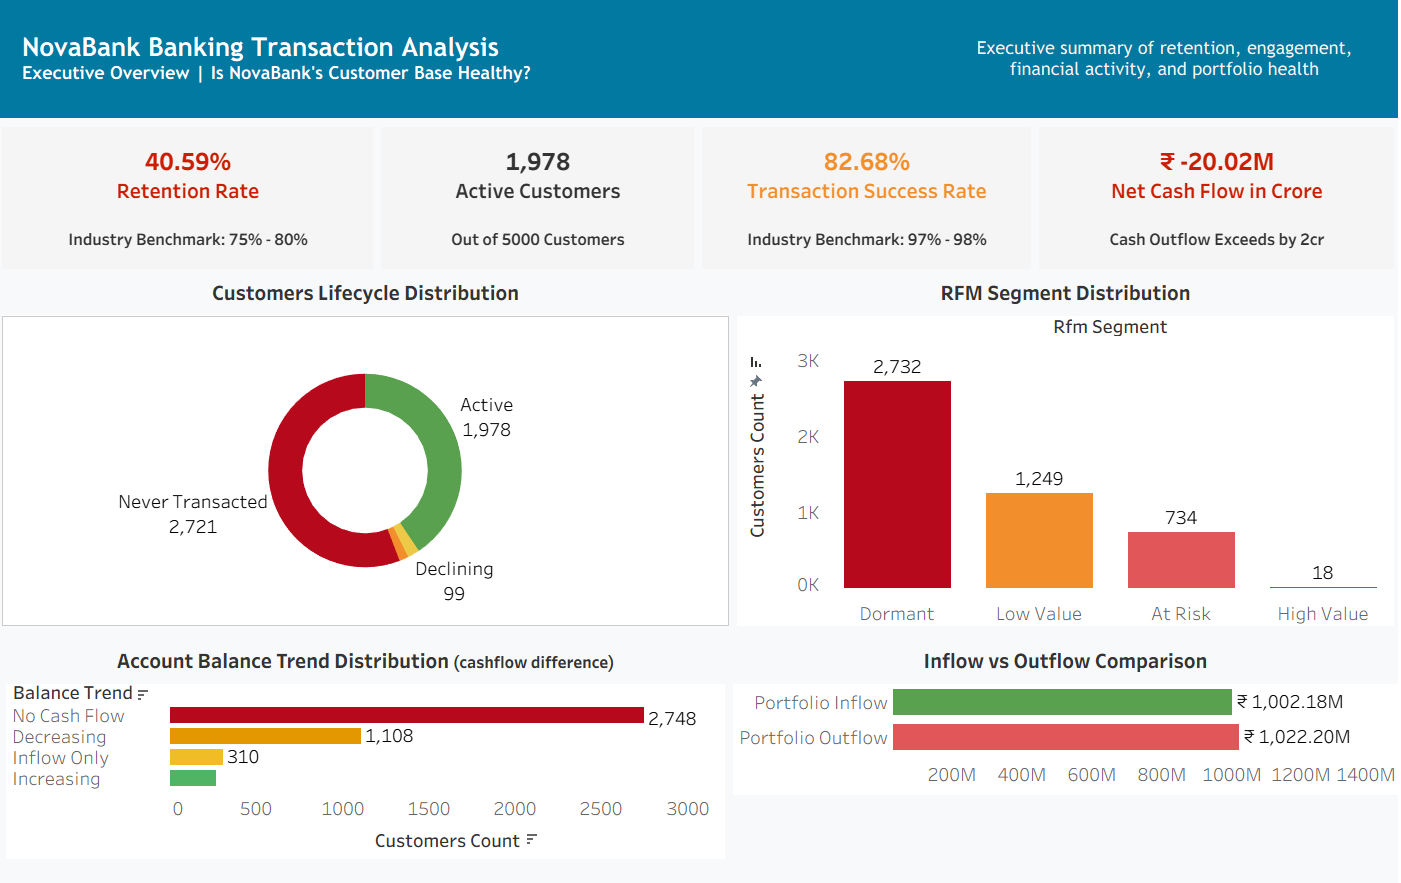

The dashboard page shown, as its layout file describes it:
{"tool":"tableau","page":{"name":"Dashboard 1: Executive Dashboard","canvas":[1400,900],"ordinal":0},"visuals":[{"type":"legend","title":"Customers Lifecycle Distribution","param":"[federated.0pmkvvu0vxlzjg1121hlv11tvan9].[none:Calculation_0224854119067650:nk]","box":[687,0,189,900]},{"type":"legend","title":"RFM Segment Distribution","param":"[federated.0pmkvvu0vxlzjg1121hlv11tvan9].[none:rfm_segment:nk]","box":[876,0,168,900]},{"type":"legend","title":"Account Balance Trend Distribution","param":"[federated.0pmkvvu0vxlzjg1121hlv11tvan9].[none:balance_trend:nk]","box":[1044,0,168,900]},{"type":"legend","title":"Inflow vs Outflow Comparison","param":"[federated.0pmkvvu0vxlzjg1121hlv11tvan9].[:Measure Names]","box":[1212,0,188,900]},{"type":"text","box":[16,16,933,93]},{"type":"text","box":[949,16,435,93]},{"type":"worksheet","title":"KPI - Retention Rate","mark":"Automatic","box":[0,125,379,150]},{"type":"worksheet","title":"KPI - Active Customers","mark":"Automatic","box":[379,125,321,150]},{"type":"worksheet","title":"KPI - Transaction Success Rate","mark":"Automatic","box":[700,125,337,150]},{"type":"worksheet","title":"KPI 4 — Net Cash Flow","mark":"Automatic","box":[1037,125,363,150]},{"type":"worksheet","title":"Customers Lifecycle Distribution","mark":"Pie","rows":["Calculation_0224854108131328","Calculation_0224854108131328"],"box":[0,272,735,360]},{"type":"worksheet","title":"RFM Segment Distribution","mark":"Automatic","rows":["customer_id"],"cols":["rfm_segment"],"box":[735,272,665,360]},{"type":"worksheet","title":"Account Balance Trend Distribution","mark":"Automatic","rows":["balance_trend"],"cols":["customer_id"],"box":[4,640,727,250]},{"type":"worksheet","title":"Inflow vs Outflow Comparison","mark":"Automatic","box":[731,640,673,250]}]}

Visuals, with their boxes in screenshot pixels (x1, y1, x2, y2), scaled from the page's 1400x900 canvas onto the 1401x883 screenshot:
"Customers Lifecycle Distribution" legend: Rect(687, 0, 877, 882)
"RFM Segment Distribution" legend: Rect(877, 0, 1045, 882)
"Account Balance Trend Distribution" legend: Rect(1045, 0, 1213, 882)
"Inflow vs Outflow Comparison" legend: Rect(1213, 0, 1400, 882)
text: Rect(16, 16, 950, 107)
text: Rect(950, 16, 1385, 107)
"KPI - Retention Rate" worksheet: Rect(0, 123, 379, 270)
"KPI - Active Customers" worksheet: Rect(379, 123, 700, 270)
"KPI - Transaction Success Rate" worksheet: Rect(700, 123, 1038, 270)
"KPI 4 — Net Cash Flow" worksheet: Rect(1038, 123, 1400, 270)
"Customers Lifecycle Distribution" worksheet (Pie marks): Rect(0, 267, 736, 620)
"RFM Segment Distribution" worksheet: Rect(736, 267, 1400, 620)
"Account Balance Trend Distribution" worksheet: Rect(4, 628, 732, 873)
"Inflow vs Outflow Comparison" worksheet: Rect(732, 628, 1400, 873)
